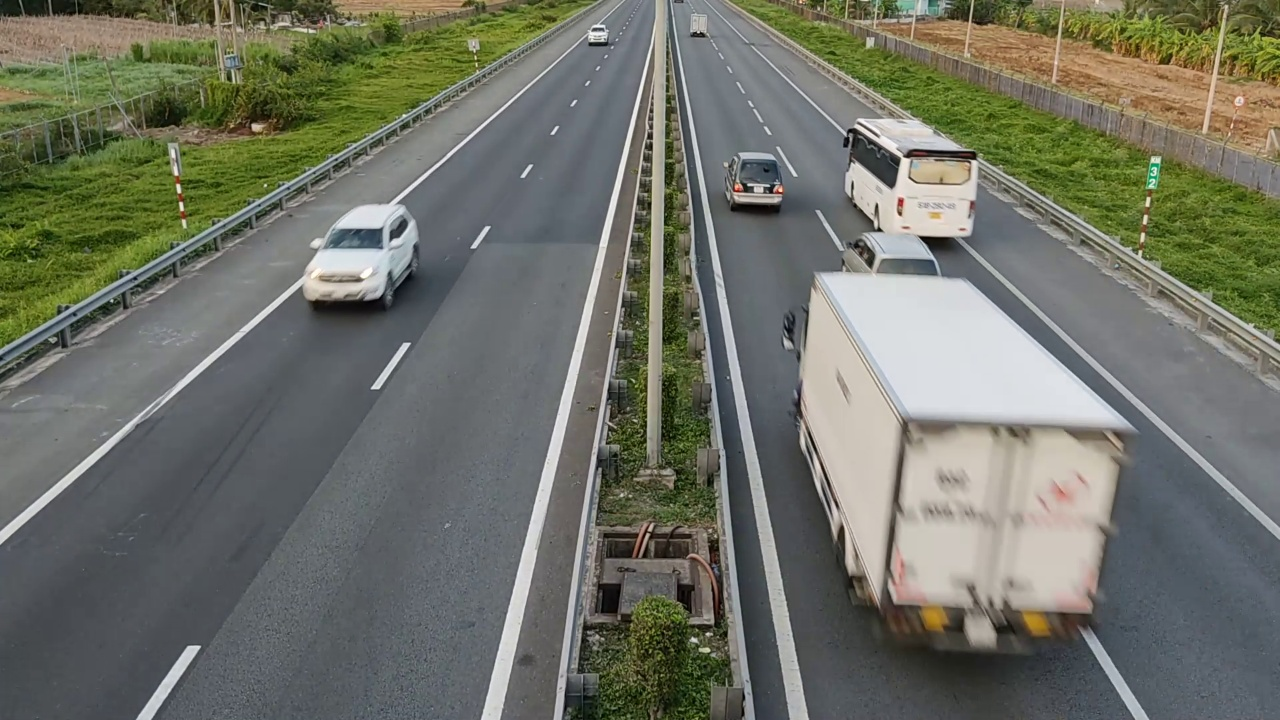bus: (842, 113, 979, 238)
car: (302, 202, 422, 312), (841, 231, 943, 279), (721, 150, 785, 211)
truck: (782, 267, 1139, 658)
